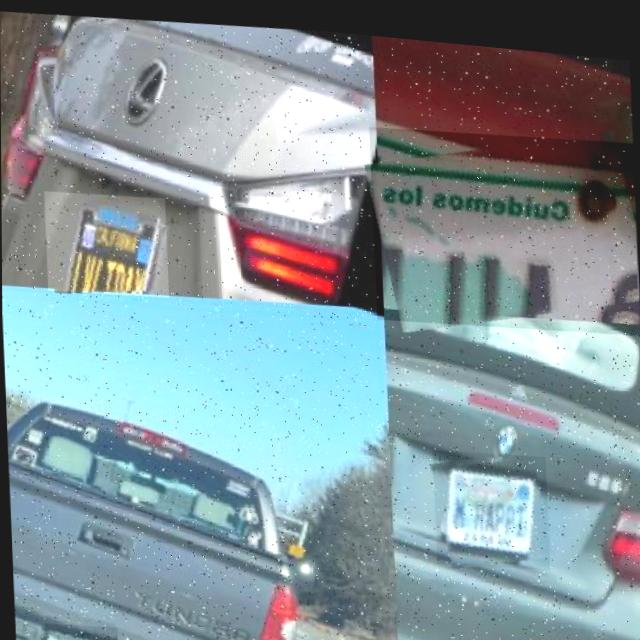LicensePlate: (368, 110, 640, 331), (431, 437, 549, 562), (44, 186, 168, 298), (46, 623, 116, 640)
